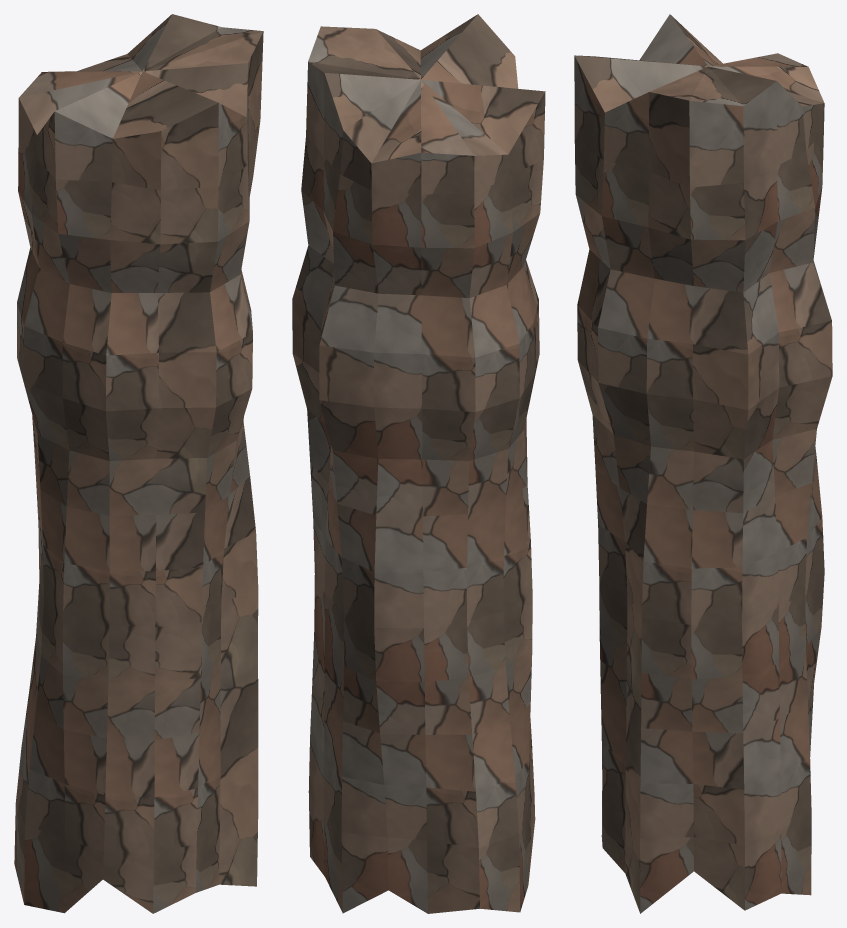
The model's file is CanyonBeam_HalfA.gltf.
3 renders of one model, left to right at view 1: azimuth 30°, elevation 25°; view 2: azimuth 150°, elevation 25°; view 3: azimuth 270°, elevation 25°, orthographic.
Visible parts, largest first — view 1: CanyonBeam_HalfA; view 2: CanyonBeam_HalfA; view 3: CanyonBeam_HalfA.
Boxes of the visible parts, <box> form: CanyonBeam_HalfA: <box>14,14,263,913</box>; CanyonBeam_HalfA: <box>292,14,545,913</box>; CanyonBeam_HalfA: <box>574,14,832,913</box>.
Bounding box in the file's own units: 8.35 × 30.18 × 8.46.
Materials: 1 (1 with a texture image).
